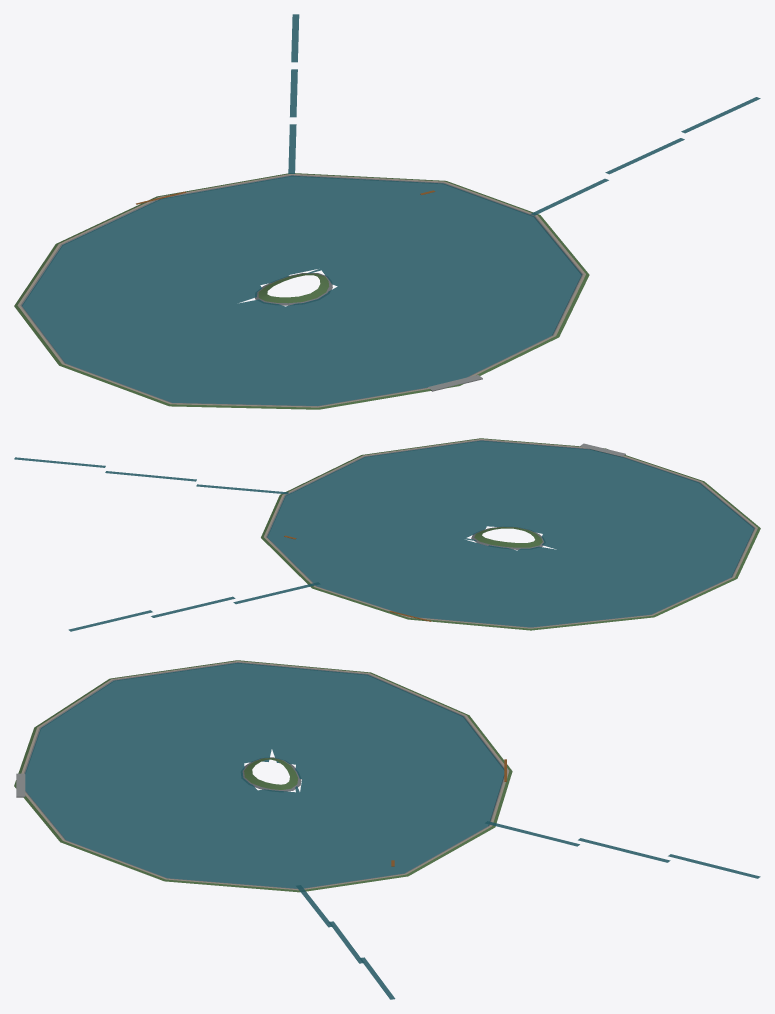
Rendered from water_suoi_klong_klanh_lac_duong.glb.
The picture shows the model from 3 angles, top to bottom: view 1: azimuth 30°, elevation 25°; view 2: azimuth 150°, elevation 25°; view 3: azimuth 270°, elevation 25°; orthographic projection. The views are drawn at different scales.
Parts seen in each view (by area): view 1: water_surface_water_suoi_klong_klanh_lac_duong, shoreline_terrain_transition_verge_water_suoi_klong_klanh_la, lakeside_promenade_walkway_water_suoi_klong_klanh_lac_duong, embankment_stone_coping_water_suoi_klong_klanh_lac_duong, headwater_terraces_stream_klong_klanh_north_headwater, headwater_terraces_stream_langbiang_northwest_inflow_to_klon, island_pine_mound_slope_island_klong_klanh_01_misty_pine_san, embankment_stone_slope_water_suoi_klong_klanh_lac_duong; view 2: water_surface_water_suoi_klong_klanh_lac_duong, shoreline_terrain_transition_verge_water_suoi_klong_klanh_la, lakeside_promenade_walkway_water_suoi_klong_klanh_lac_duong, embankment_stone_coping_water_suoi_klong_klanh_lac_duong, headwater_terraces_stream_klong_klanh_north_headwater, headwater_terraces_stream_langbiang_northwest_inflow_to_klon, embankment_stone_slope_water_suoi_klong_klanh_lac_duong, island_pine_mound_slope_island_klong_klanh_01_misty_pine_san; view 3: water_surface_water_suoi_klong_klanh_lac_duong, shoreline_terrain_transition_verge_water_suoi_klong_klanh_la, lakeside_promenade_walkway_water_suoi_klong_klanh_lac_duong, embankment_stone_coping_water_suoi_klong_klanh_lac_duong, headwater_terraces_stream_klong_klanh_north_headwater, headwater_terraces_stream_langbiang_northwest_inflow_to_klon, island_pine_mound_slope_island_klong_klanh_01_misty_pine_san, embankment_stone_slope_water_suoi_klong_klanh_lac_duong.
Boxes of the visible parts, <box> form: water_surface_water_suoi_klong_klanh_lac_duong: <box>22,175,581,405</box>; shoreline_terrain_transition_verge_water_suoi_klong_klanh_la: <box>14,173,589,409</box>; lakeside_promenade_walkway_water_suoi_klong_klanh_lac_duong: <box>17,174,585,407</box>; embankment_stone_coping_water_suoi_klong_klanh_lac_duong: <box>20,175,583,406</box>; headwater_terraces_stream_klong_klanh_north_headwater: <box>288,14,299,173</box>; headwater_terraces_stream_langbiang_northwest_inflow_to_klon: <box>530,97,760,215</box>; island_pine_mound_slope_island_klong_klanh_01_misty_pine_san: <box>258,273,329,303</box>; embankment_stone_slope_water_suoi_klong_klanh_lac_duong: <box>21,175,582,360</box>; water_surface_water_suoi_klong_klanh_lac_duong: <box>267,440,754,627</box>; shoreline_terrain_transition_verge_water_suoi_klong_klanh_la: <box>261,438,760,630</box>; lakeside_promenade_walkway_water_suoi_klong_klanh_lac_duong: <box>264,439,757,628</box>; embankment_stone_coping_water_suoi_klong_klanh_lac_duong: <box>266,440,755,627</box>; headwater_terraces_stream_klong_klanh_north_headwater: <box>68,582,320,631</box>; headwater_terraces_stream_langbiang_northwest_inflow_to_klon: <box>14,457,288,494</box>; embankment_stone_slope_water_suoi_klong_klanh_lac_duong: <box>267,440,754,578</box>; island_pine_mound_slope_island_klong_klanh_01_misty_pine_san: <box>474,527,542,547</box>; water_surface_water_suoi_klong_klanh_lac_duong: <box>25,663,504,888</box>; shoreline_terrain_transition_verge_water_suoi_klong_klanh_la: <box>14,660,512,892</box>; lakeside_promenade_walkway_water_suoi_klong_klanh_lac_duong: <box>21,661,509,890</box>; embankment_stone_coping_water_suoi_klong_klanh_lac_duong: <box>24,662,504,888</box>; headwater_terraces_stream_klong_klanh_north_headwater: <box>485,821,760,878</box>; headwater_terraces_stream_langbiang_northwest_inflow_to_klon: <box>296,885,395,999</box>; island_pine_mound_slope_island_klong_klanh_01_misty_pine_san: <box>244,758,297,789</box>; embankment_stone_slope_water_suoi_klong_klanh_lac_duong: <box>25,662,504,833</box>.
Size of the model in its own units: 1484 by 32.7 by 1325.
